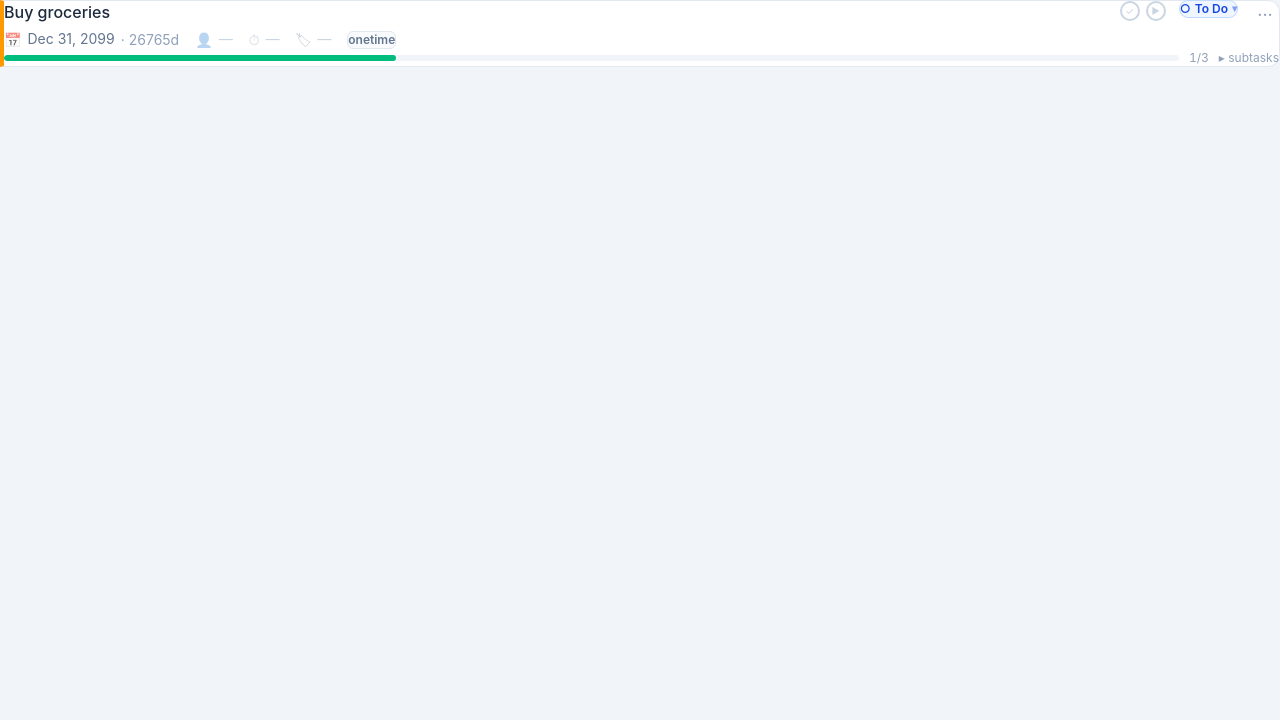
Test case: TaskCard — mark-done flow › modal lists incomplete subtask titles
This screenshot has width=1280, height=720.
Click the button titled "Mark as done" at (1130, 11), box [1120,1,1140,21]
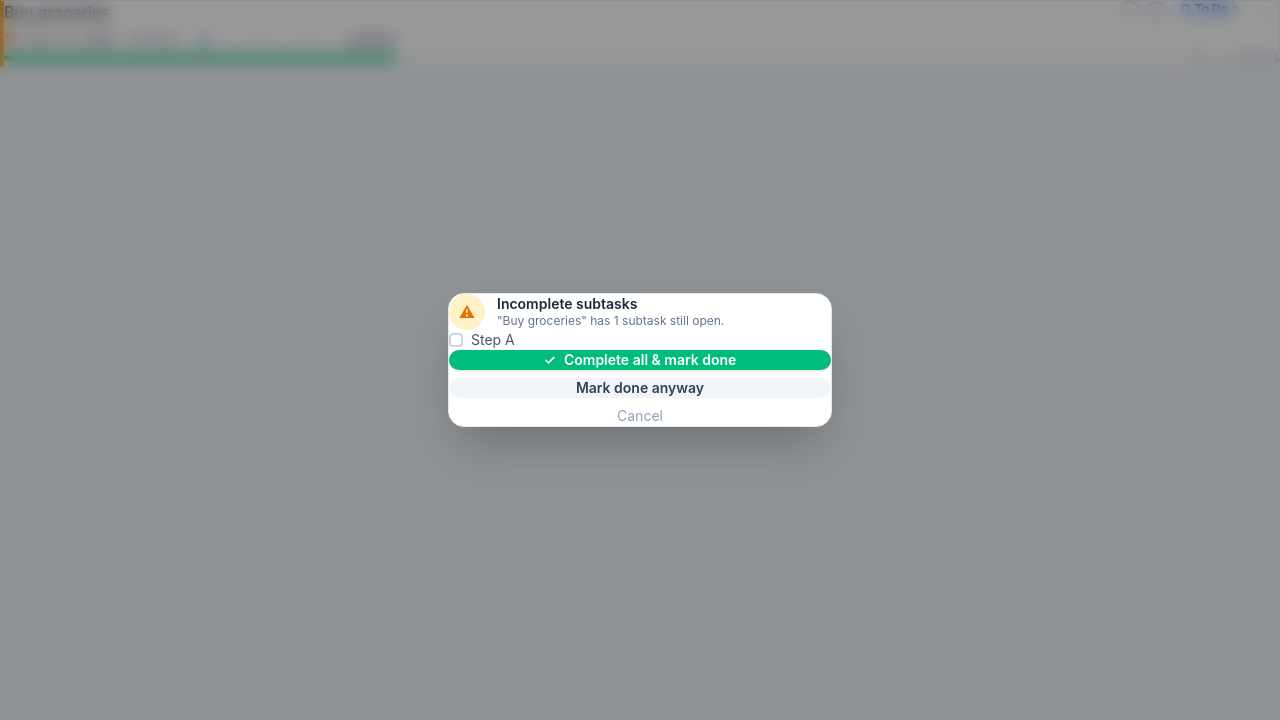
Check: the text "Step A" is shown, box [471,330,515,350]
